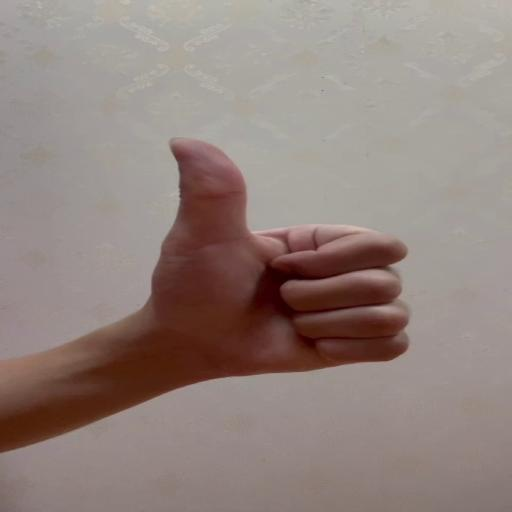thumbs_up: (160, 134, 412, 377)
